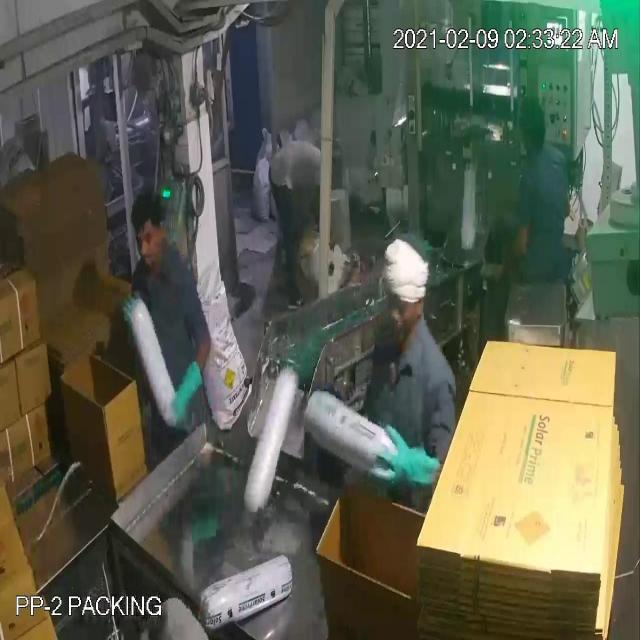Gloves: (46, 71, 508, 460)
